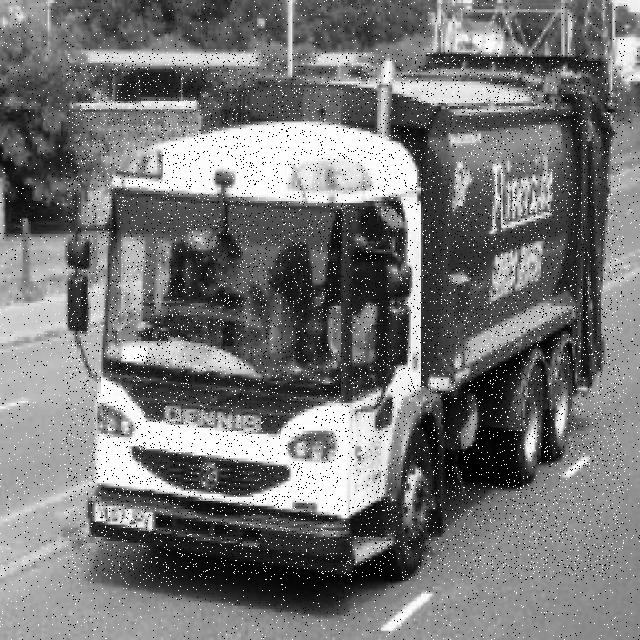Garbage Truck: (66, 53, 624, 580)
